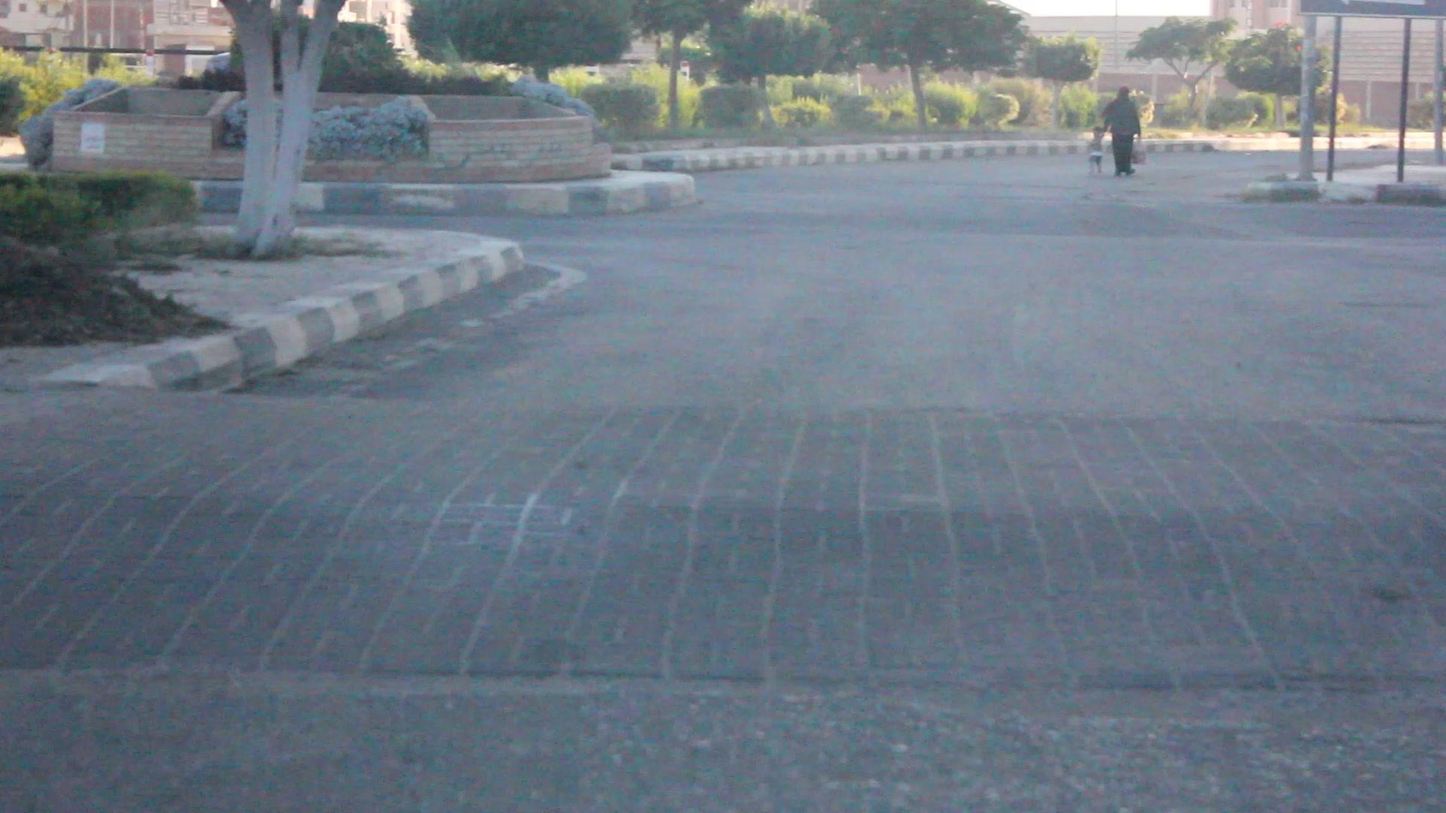Bump: (0, 382, 1445, 694)
